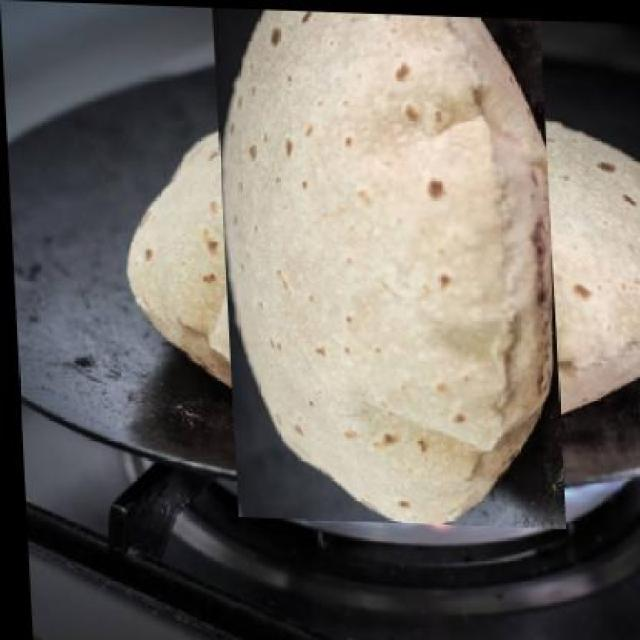chapati: (165, 38, 609, 479)
